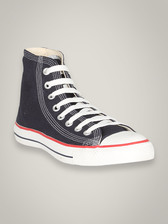shoes: (12, 46, 157, 166)
